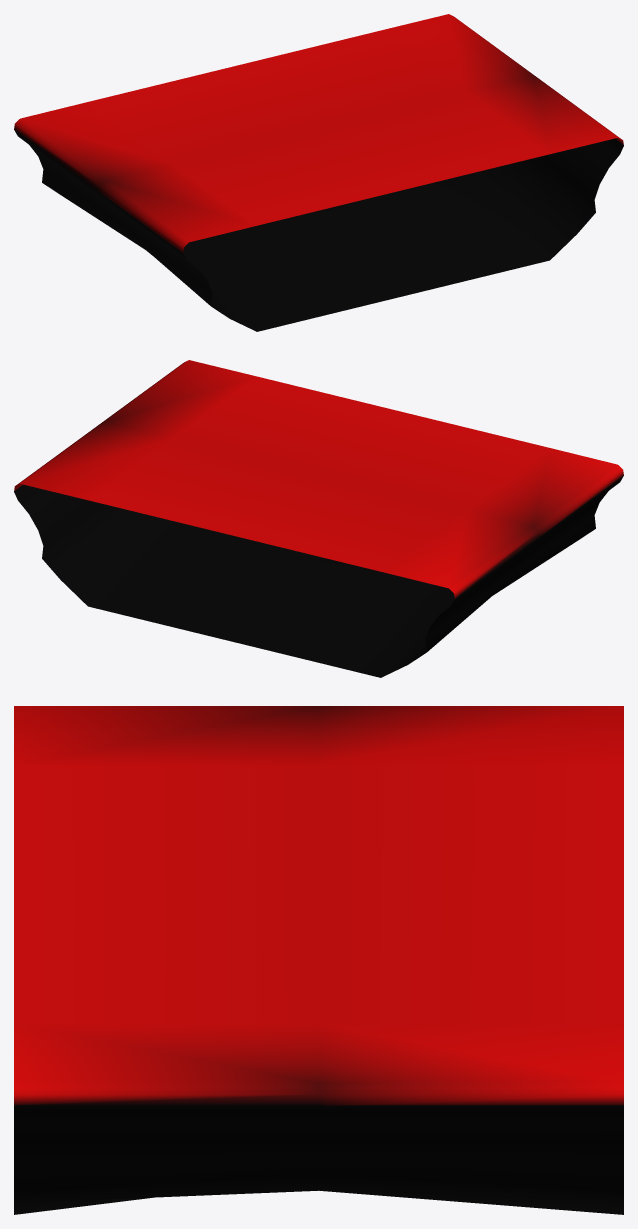
Rendered from CrossingCliff01C 3M Background.fbx.
3 views of the same model, one above another, from view 1: azimuth 30°, elevation 25°; view 2: azimuth 150°, elevation 25°; view 3: azimuth 270°, elevation 25° (orthographic). The views are drawn at different scales.
Visible parts, largest first — view 1: CrossingCliff01C 3M Background; view 2: CrossingCliff01C 3M Background; view 3: CrossingCliff01C 3M Background.
Boxes of the visible parts, box(x1,y1,x2,y2) form: CrossingCliff01C 3M Background: box(14, 14, 623, 331); CrossingCliff01C 3M Background: box(14, 360, 623, 677); CrossingCliff01C 3M Background: box(14, 706, 623, 1214).
Size of the model in its own units: 3.01 by 0.693 by 2.
